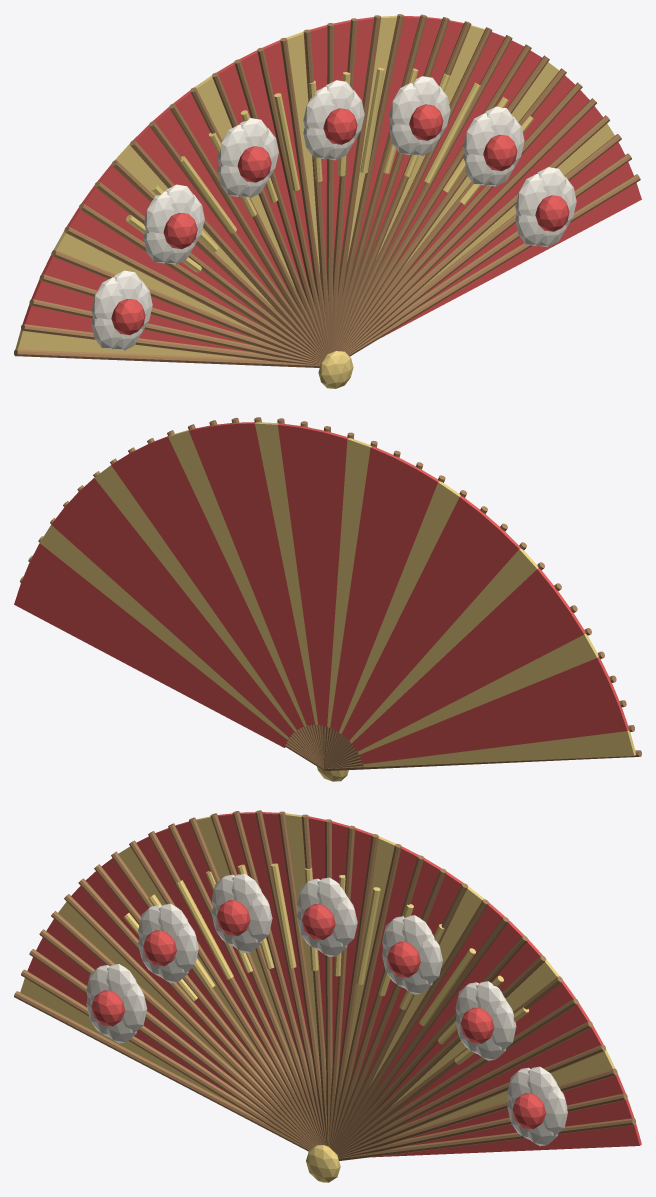
The model's file is kabuki_mie_fan.glb.
3 views of the same model, one above another, from view 1: azimuth 30°, elevation 25°; view 2: azimuth 150°, elevation 25°; view 3: azimuth 330°, elevation 25° (orthographic).
Visible parts, largest first — view 1: Kabuki fan for mie pose gold-threaded paper pleat.035, Kabuki fan for mie pose gold-threaded paper pleat.005, Kabuki fan for mie pose carved fan bone.031, Kabuki fan for mie pose carved fan bone.021, Kabuki fan for mie pose carved fan bone.020, Kabuki fan for mie pose gold-threaded paper pleat.004, Kabuki fan for mie pose carved fan bone.016, Kabuki fan for mie pose gold-threaded paper pleat, Kabuki fan for mie pose carved fan bone, Kabuki fan for mie pose carved fan bone.025, Kabuki fan for mie pose carved fan bone.015, Kabuki fan for mie pose gold-threaded paper pleat.009 (+93 smaller); view 2: Kabuki fan for mie pose gold-threaded paper pleat.018, Kabuki fan for mie pose gold-threaded paper pleat.019, Kabuki fan for mie pose gold-threaded paper pleat.015, Kabuki fan for mie pose gold-threaded paper pleat, Kabuki fan for mie pose gold-threaded paper pleat.016, Kabuki fan for mie pose gold-threaded paper pleat.020, Kabuki fan for mie pose gold-threaded paper pleat.001, Kabuki fan for mie pose gold-threaded paper pleat.022, Kabuki fan for mie pose gold-threaded paper pleat.002, Kabuki fan for mie pose gold-threaded paper pleat.021, Kabuki fan for mie pose gold-threaded paper pleat.014, Kabuki fan for mie pose gold-threaded paper pleat.003 (+25 smaller); view 3: Kabuki fan for mie pose gold-threaded paper pleat.035, Kabuki fan for mie pose carved fan bone.005, Kabuki fan for mie pose gold-threaded paper pleat.030, Kabuki fan for mie pose carved fan bone, Kabuki fan for mie pose carved fan bone.016, Kabuki fan for mie pose gold-threaded paper pleat.031, Kabuki fan for mie pose carved fan bone.020, Kabuki fan for mie pose carved fan bone.021, Kabuki fan for mie pose carved fan bone.011, Kabuki fan for mie pose gold-threaded paper pleat.026, Kabuki fan for mie pose carved fan bone.031, Kabuki fan for mie pose gold-threaded paper pleat.019 (+93 smaller).
Part boxes in pixels (x1,y1,x2,y2): Kabuki fan for mie pose gold-threaded paper pleat.035: [381, 183, 641, 337]; Kabuki fan for mie pose gold-threaded paper pleat.005: [67, 208, 260, 325]; Kabuki fan for mie pose carved fan bone.031: [345, 98, 596, 352]; Kabuki fan for mie pose carved fan bone.021: [333, 14, 404, 351]; Kabuki fan for mie pose carved fan bone.020: [332, 15, 381, 352]; Kabuki fan for mie pose gold-threaded paper pleat.004: [53, 231, 256, 331]; Kabuki fan for mie pose carved fan bone.016: [280, 37, 329, 353]; Kabuki fan for mie pose gold-threaded paper pleat: [15, 329, 244, 358]; Kabuki fan for mie pose carved fan bone: [14, 349, 320, 367]; Kabuki fan for mie pose carved fan bone.025: [338, 27, 492, 351]; Kabuki fan for mie pose carved fan bone.015: [257, 47, 328, 353]; Kabuki fan for mie pose gold-threaded paper pleat.009: [133, 125, 278, 302]; Kabuki fan for mie pose gold-threaded paper pleat.018: [301, 426, 325, 725]; Kabuki fan for mie pose gold-threaded paper pleat.019: [278, 423, 321, 725]; Kabuki fan for mie pose gold-threaded paper pleat.015: [330, 446, 394, 728]; Kabuki fan for mie pose gold-threaded paper pleat: [363, 730, 635, 767]; Kabuki fan for mie pose gold-threaded paper pleat.016: [327, 438, 371, 727]; Kabuki fan for mie pose gold-threaded paper pleat.020: [255, 422, 318, 724]; Kabuki fan for mie pose gold-threaded paper pleat.001: [362, 705, 628, 764]; Kabuki fan for mie pose gold-threaded paper pleat.022: [210, 423, 312, 725]; Kabuki fan for mie pose gold-threaded paper pleat.002: [361, 681, 620, 760]; Kabuki fan for mie pose gold-threaded paper pleat.021: [232, 422, 315, 724]; Kabuki fan for mie pose gold-threaded paper pleat.014: [333, 456, 416, 730]; Kabuki fan for mie pose gold-threaded paper pleat.003: [359, 657, 610, 757]; Kabuki fan for mie pose gold-threaded paper pleat.035: [372, 1124, 641, 1157]; Kabuki fan for mie pose carved fan bone.005: [64, 894, 315, 1146]; Kabuki fan for mie pose gold-threaded paper pleat.030: [398, 1002, 590, 1119]; Kabuki fan for mie pose carved fan bone: [14, 991, 309, 1151]; Kabuki fan for mie pose carved fan bone.016: [278, 811, 326, 1145]; Kabuki fan for mie pose gold-threaded paper pleat.031: [402, 1026, 603, 1125]; Kabuki fan for mie pose carved fan bone.020: [329, 834, 378, 1147]; Kabuki fan for mie pose carved fan bone.021: [330, 844, 401, 1148]; Kabuki fan for mie pose carved fan bone.011: [168, 823, 321, 1144]; Kabuki fan for mie pose gold-threaded paper pleat.026: [379, 920, 524, 1097]; Kabuki fan for mie pose carved fan bone.031: [337, 1021, 592, 1155]; Kabuki fan for mie pose gold-threaded paper pleat.019: [339, 828, 372, 1068].
Bounding box in the file's own units: 1.95 × 1.07 × 0.1102.
